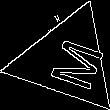M_W: (33, 31, 100, 91)
